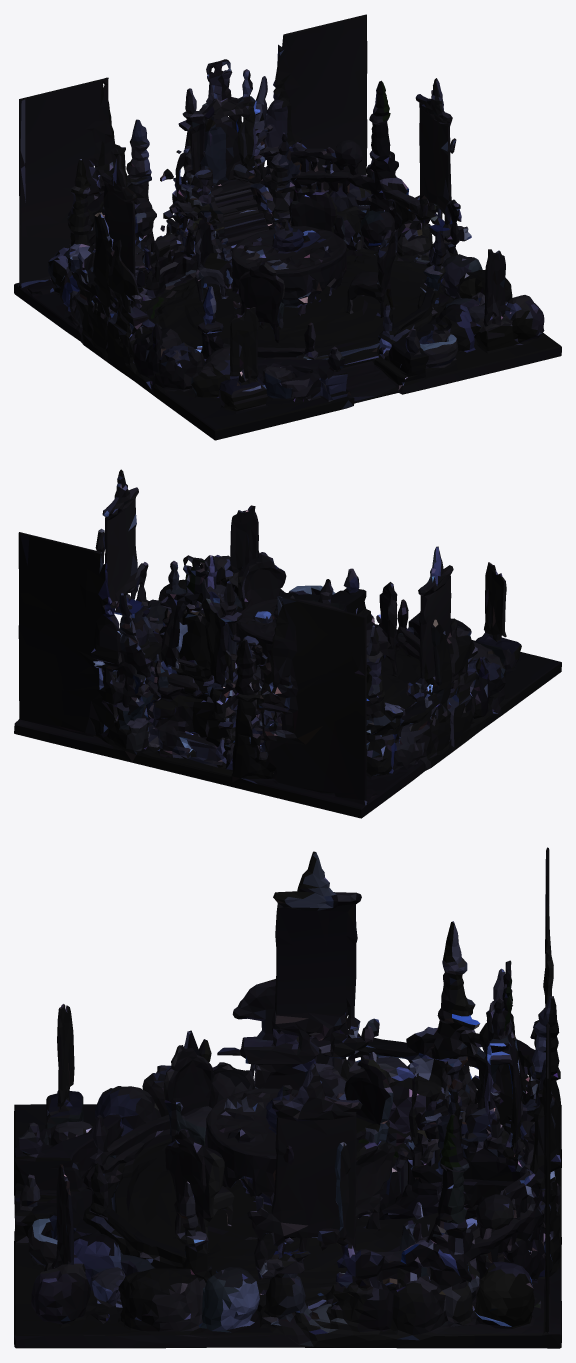
File: mesa-cha-08.glb
3 views of the same model, one above another, from view 1: azimuth 30°, elevation 25°; view 2: azimuth 150°, elevation 25°; view 3: azimuth 270°, elevation 25° (orthographic). The views are drawn at different scales.
Visible parts, largest first — view 1: SM_Mesa_Cha_08; view 2: SM_Mesa_Cha_08; view 3: SM_Mesa_Cha_08.
Part boxes in pixels (<box>): SM_Mesa_Cha_08: <box>14,14,561,440</box>; SM_Mesa_Cha_08: <box>14,469,561,818</box>; SM_Mesa_Cha_08: <box>14,847,561,1348</box>.
Bounding box in the file's own units: 7.18 × 4 × 7.17.
1 material, 1 textured.
